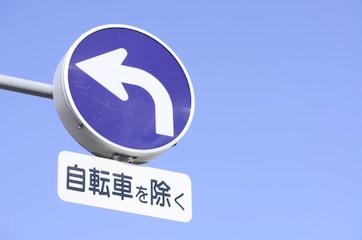Direction_sign: (65, 24, 196, 167)
